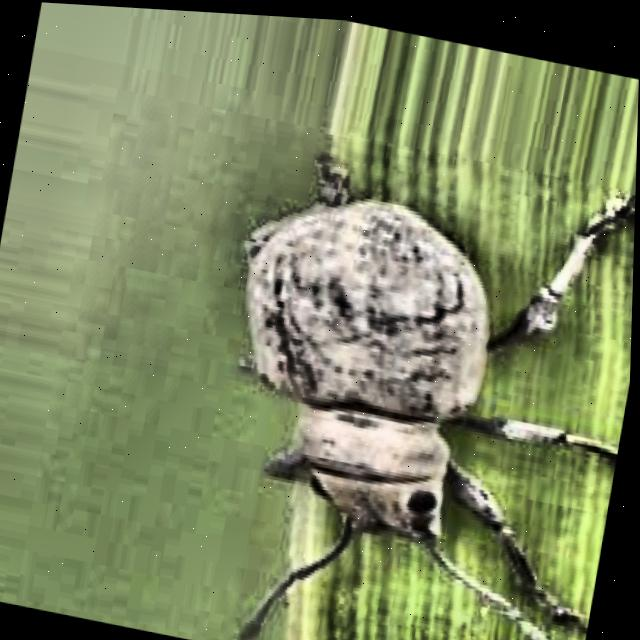Stink bug: (182, 9, 640, 640)
